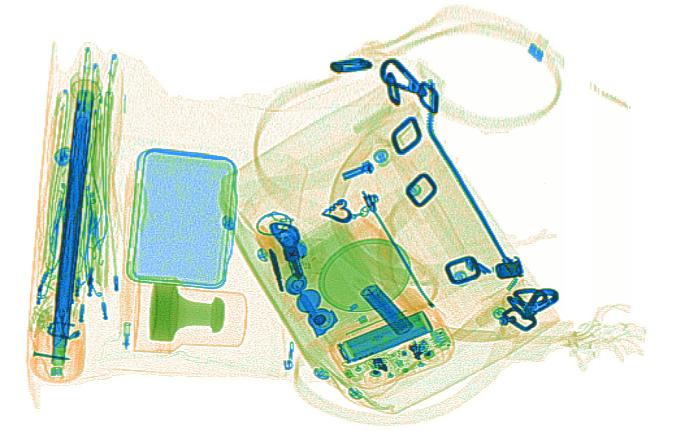battery: (336, 311, 433, 363), (360, 284, 413, 336)
seal: (150, 280, 225, 341)
